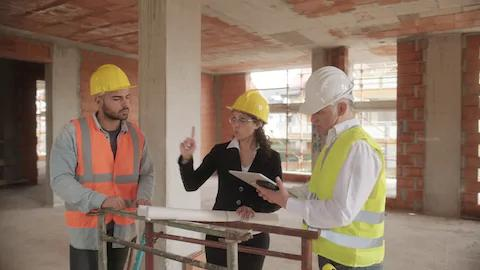safe person: (49, 58, 145, 261), (296, 62, 413, 228), (220, 84, 275, 144)
